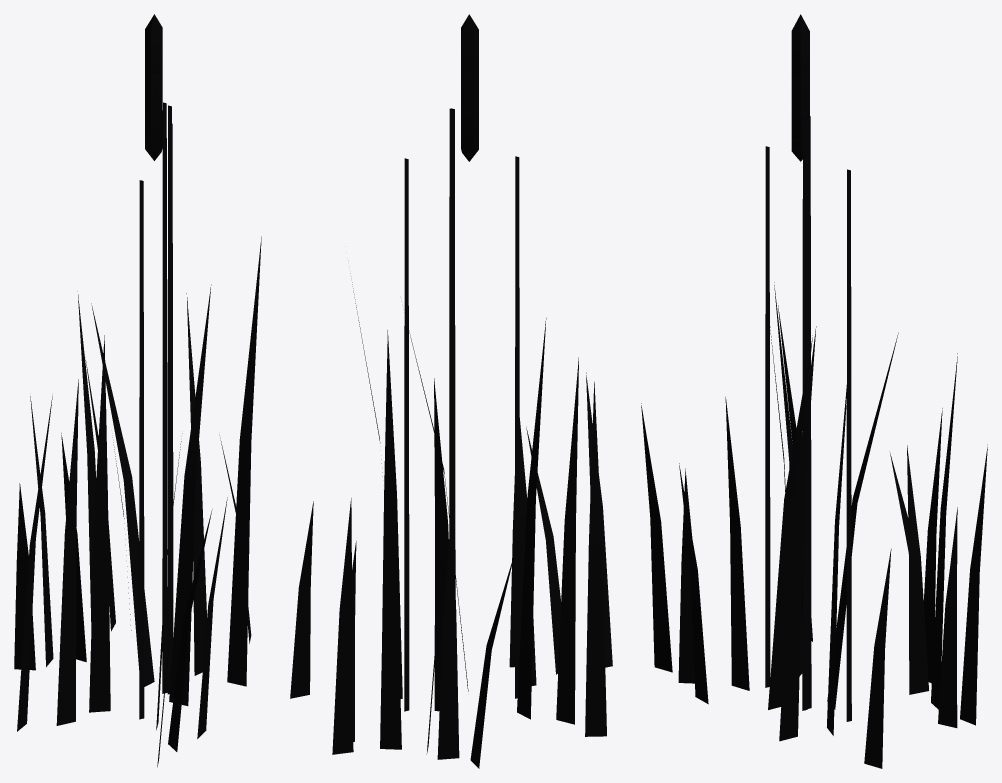
Rendered from SM_reeds.fbx.
3 renders of one model, left to right at view 1: azimuth 30°, elevation 25°; view 2: azimuth 150°, elevation 25°; view 3: azimuth 270°, elevation 25°, orthographic.
Parts seen in each view (by area): view 1: reeds; view 2: reeds; view 3: reeds.
Part boxes in pixels (bbox=[...]): reeds: bbox=[14, 14, 261, 767]; reeds: bbox=[290, 14, 612, 768]; reeds: bbox=[641, 14, 987, 768].
Bounding box in the file's own units: 0.7243 × 1.72 × 0.7884.
